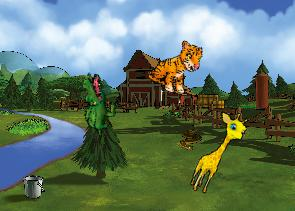crocodile: (66, 71, 128, 140)
giraffe: (186, 106, 252, 200)
tiger: (145, 33, 206, 99)
